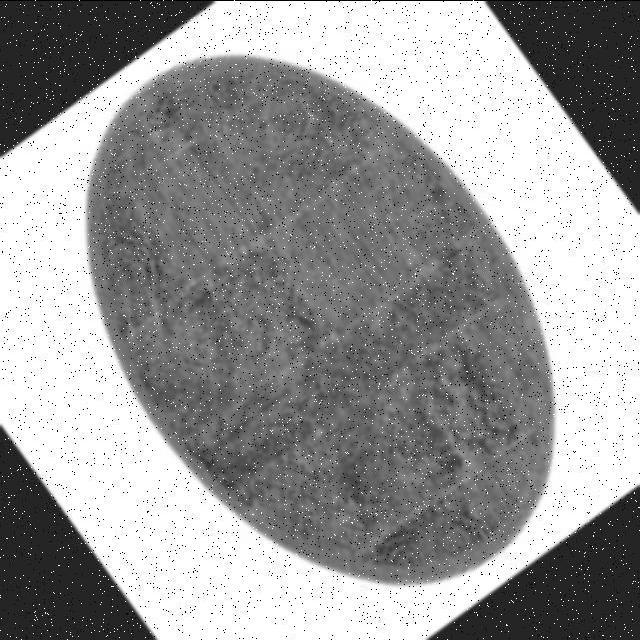Circle: (81, 49, 564, 596)
